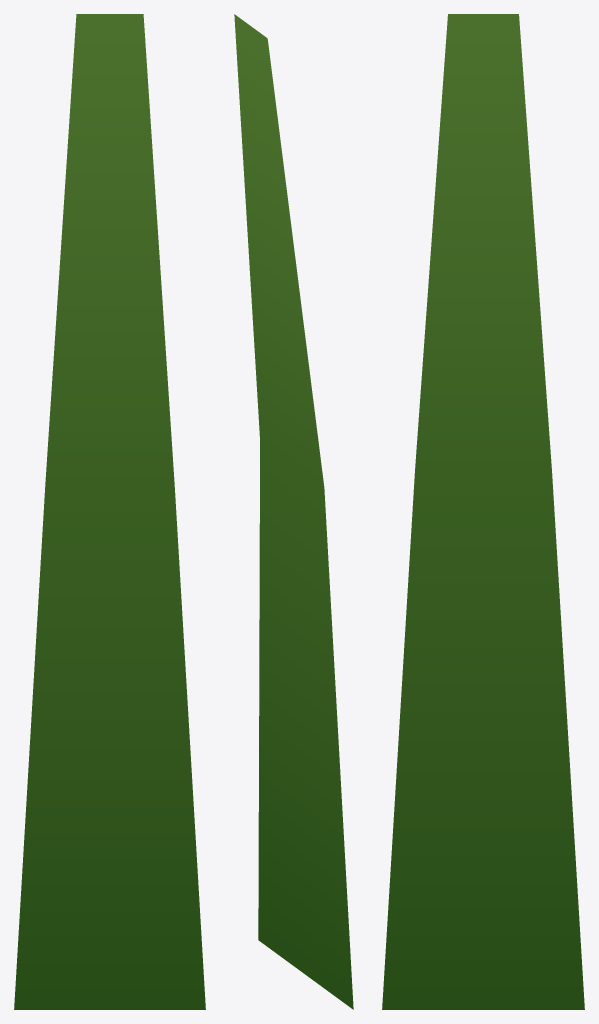
Rendered from Blade_Lawn.glb.
3 views of the same model, side by side, from view 1: azimuth 90°, elevation 25°; view 2: azimuth 210°, elevation 25°; view 3: azimuth 270°, elevation 25° (orthographic). The views are drawn at different scales.
Parts seen in each view (by area): view 1: Blade_Lawn; view 2: Blade_Lawn; view 3: Blade_Lawn.
Part boxes in pixels (<box>): Blade_Lawn: <box>14,14,205,1009</box>; Blade_Lawn: <box>234,14,353,1009</box>; Blade_Lawn: <box>382,14,584,1009</box>.
Bounding box in the file's own units: 0.004 × 0.0669 × 0.012.
